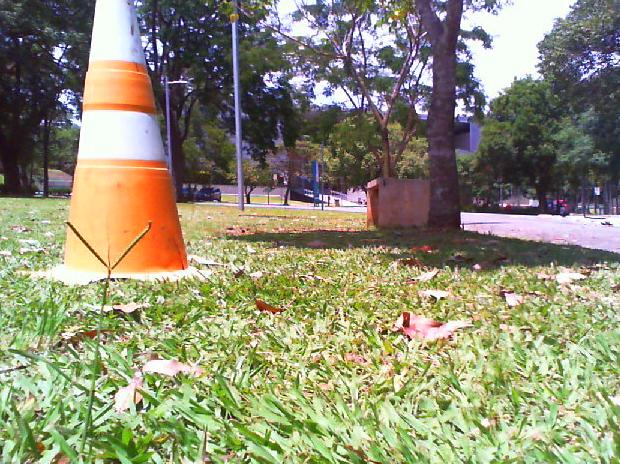0 cone: (50, 0, 199, 286)
